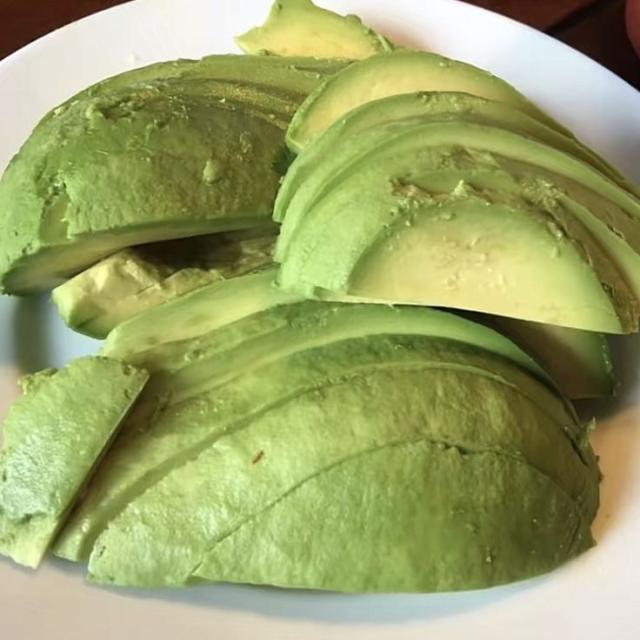avocado: (56, 302, 598, 590), (56, 277, 553, 559), (0, 57, 339, 293), (276, 119, 639, 332), (279, 194, 637, 333), (274, 92, 627, 221), (0, 357, 147, 567), (287, 51, 570, 152), (53, 227, 275, 338), (102, 268, 300, 358), (76, 55, 350, 102), (472, 314, 614, 399), (236, 0, 393, 59)
